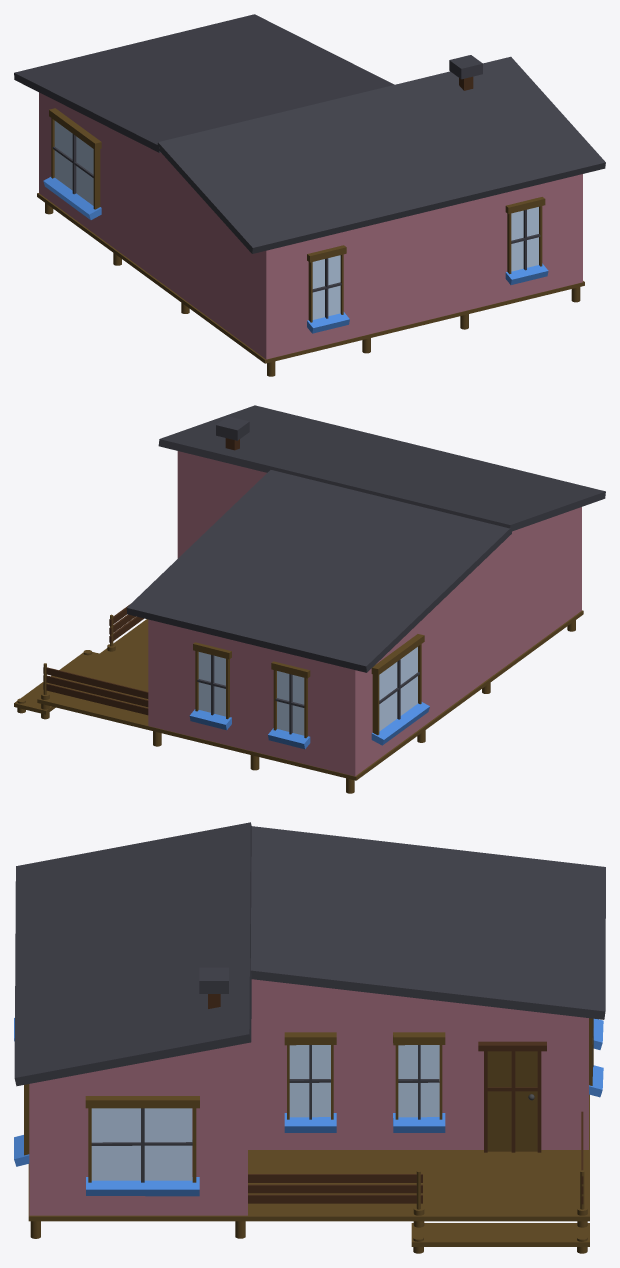
The model's file is BeachHouse3.fbx.
The picture shows the model from 3 angles, top to bottom: view 1: azimuth 30°, elevation 25°; view 2: azimuth 150°, elevation 25°; view 3: azimuth 270°, elevation 25°; orthographic projection. The views are drawn at different scales.
Parts seen in each view (by area): view 1: Cube.3313, Cube.3312, Cube.3314, Cube.3311, Cube.3309, Cube.3376, Cube.3362, Cube.3369, Cube.3370, Cube.3371, Cube.3384, Cube.3363 (+1 smaller); view 2: Cube.3314, Cube.3311, Cube.3313, Cube.3312, Cube.3309, Cube.3376, Cube.3355, Cube.3348, Cube.3310, Cube.3370, Cube.3378, Cube.3379 (+5 smaller); view 3: Cube.3314, Cube.3313, Cube.3311, Cube.3312, Cube.3309, Cube.3327, Cube.3315, Cube.3310, Cube.3334, Cube.3341, Cube.3321, Cube.3382 (+9 smaller).
Boxes of the visible parts, x1,y1,x2,y2 form: Cube.3313: (157, 56, 605, 253); Cube.3312: (177, 171, 582, 359); Cube.3314: (14, 14, 394, 152); Cube.3311: (39, 92, 177, 293); Cube.3309: (37, 193, 584, 363); Cube.3376: (54, 121, 93, 205); Cube.3362: (312, 255, 340, 319); Cube.3369: (511, 207, 538, 271); Cube.3370: (43, 177, 101, 219); Cube.3371: (49, 108, 101, 149); Cube.3384: (449, 55, 482, 79); Cube.3363: (505, 263, 548, 284); Cube.3314: (126, 470, 511, 672); Cube.3311: (148, 552, 493, 776); Cube.3313: (158, 405, 605, 531); Cube.3312: (177, 451, 581, 674); Cube.3309: (37, 610, 583, 780); Cube.3376: (379, 647, 417, 731); Cube.3355: (277, 671, 304, 735); Cube.3348: (198, 652, 225, 716); Cube.3310: (14, 652, 99, 714); Cube.3370: (371, 702, 429, 745); Cube.3378: (43, 675, 148, 707); Cube.3379: (43, 683, 148, 715); Cube.3314: (250, 826, 605, 1019); Cube.3313: (14, 822, 251, 1086); Cube.3311: (248, 979, 588, 1149); Cube.3312: (29, 1043, 247, 1215); Cube.3309: (28, 1094, 589, 1221); Cube.3327: (91, 1108, 192, 1180); Cube.3315: (487, 1051, 537, 1151); Cube.3310: (411, 1223, 589, 1246); Cube.3334: (398, 1045, 439, 1117); Cube.3341: (289, 1045, 330, 1117); Cube.3321: (86, 1177, 199, 1196); Cube.3382: (248, 1194, 422, 1203).
Size of the model in its own units: 14449 by 7463 by 16690.
